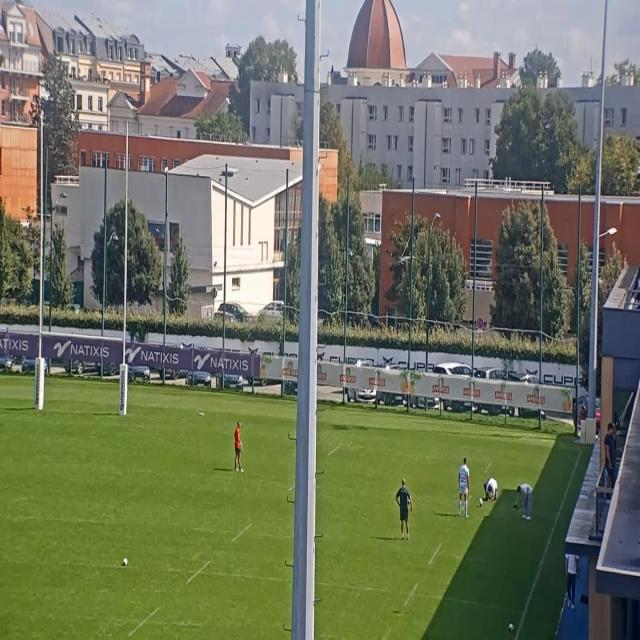rugby ball: (120, 553, 130, 568)
rugby play: (229, 419, 250, 474), (396, 473, 412, 543), (516, 476, 536, 528), (458, 454, 471, 521), (486, 466, 500, 504), (474, 494, 485, 511)
